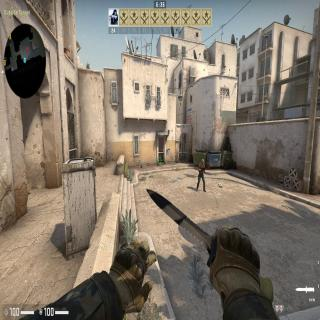T-Body: (197, 159, 206, 192)
T-Head: (202, 159, 204, 164)
